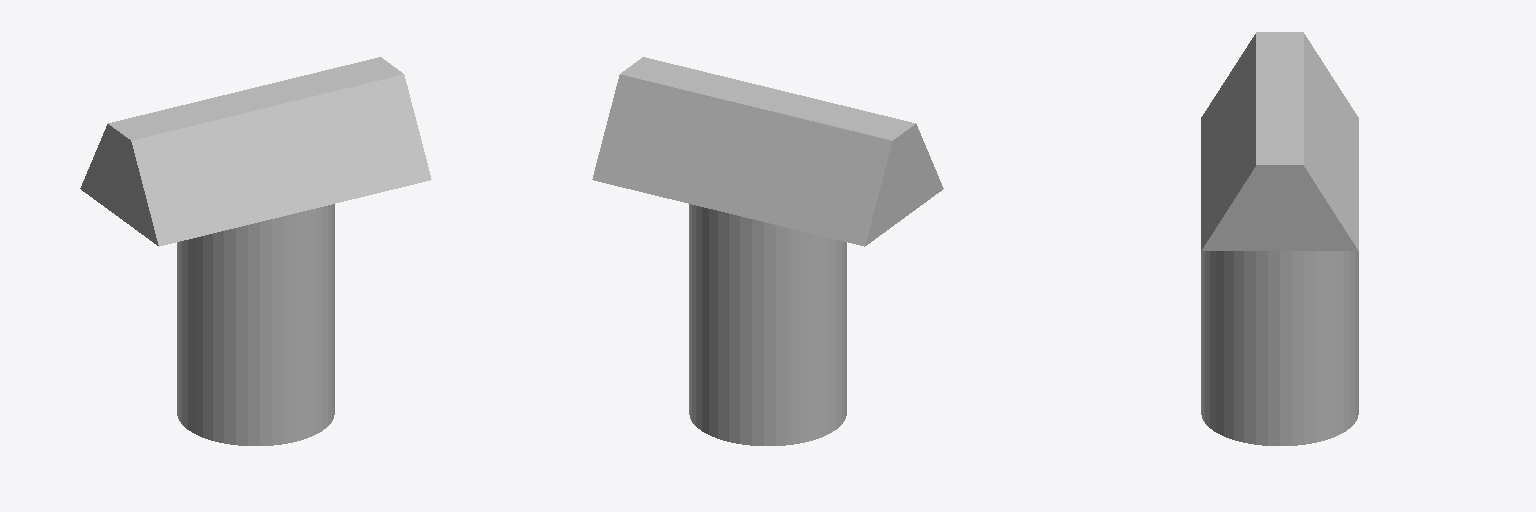
The model's file is rotator_wedge.obj.
The picture shows the model from 3 angles: view 1: azimuth 30°, elevation 25°; view 2: azimuth 150°, elevation 25°; view 3: azimuth 270°, elevation 25°; orthographic projection.
Parts seen in each view (by area): view 1: Solid1; view 2: Solid1; view 3: Solid1.
Part boxes in pixels (bbox=[...]): Solid1: bbox=[80, 57, 431, 445]; Solid1: bbox=[592, 57, 943, 445]; Solid1: bbox=[1201, 32, 1358, 445].
Bounding box in the file's own units: 0.1 × 0.11 × 0.05.